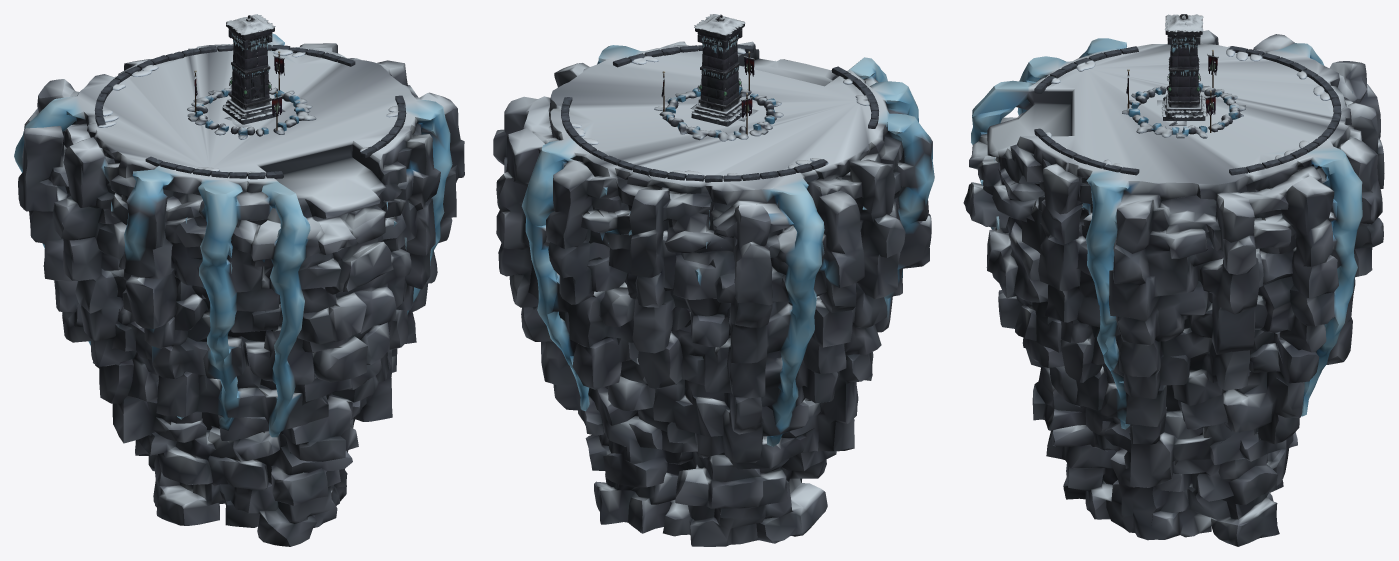
File: gravewyrm_sanctum_interior.glb
The picture shows the model from 3 angles, left to right: view 1: azimuth 30°, elevation 25°; view 2: azimuth 150°, elevation 25°; view 3: azimuth 270°, elevation 25°; orthographic projection. The views are drawn at different scales.
Parts seen in each view (by area): view 1: Kit_LockSpur, Kit_LockCurb, Kit_ThawPyreV2, Kit_SealPillarV2_Bellows, Kit_SealPillarV2_Hammer, Kit_SealPillarCrackedV2_Bellows, Kit_SealPillarCrackedV2_Hammer, Kit_SealPillarCrackedV2_Tongs, Kit_SealPillarV2_Anvil, Kit_SealPillarV2_Tongs, Kit_SealPillarCrackedV2_Anvil; view 2: Kit_LockSpur, Kit_LockCurb, Kit_ThawPyreV2, Kit_SealPillarV2_Hammer, Kit_SealPillarV2_Bellows, Kit_SealPillarCrackedV2_Bellows, Kit_SealPillarCrackedV2_Hammer, Kit_SealPillarV2_Anvil, Kit_SealPillarCrackedV2_Anvil, Kit_SealPillarV2_Tongs, Kit_SealPillarCrackedV2_Tongs; view 3: Kit_LockSpur, Kit_LockCurb, Kit_ThawPyreV2, Kit_SealPillarV2_Hammer, Kit_SealPillarV2_Bellows, Kit_SealPillarV2_Anvil, Kit_SealPillarV2_Tongs, Kit_SealPillarCrackedV2_Bellows, Kit_SealPillarCrackedV2_Tongs, Kit_SealPillarCrackedV2_Hammer, Kit_SealPillarCrackedV2_Anvil.
Part boxes in pixels (<box>): Kit_LockSpur: <box>14,33,464,546</box>; Kit_LockCurb: <box>94,44,406,179</box>; Kit_ThawPyreV2: <box>187,51,316,139</box>; Kit_SealPillarV2_Bellows: <box>222,15,274,124</box>; Kit_SealPillarV2_Hammer: <box>223,15,278,123</box>; Kit_SealPillarCrackedV2_Bellows: <box>223,16,274,124</box>; Kit_SealPillarCrackedV2_Hammer: <box>226,15,275,122</box>; Kit_SealPillarCrackedV2_Tongs: <box>222,15,275,123</box>; Kit_SealPillarV2_Anvil: <box>225,15,274,121</box>; Kit_SealPillarV2_Tongs: <box>223,14,276,122</box>; Kit_SealPillarCrackedV2_Anvil: <box>224,15,272,122</box>; Kit_LockSpur: <box>493,41,934,546</box>; Kit_LockCurb: <box>561,44,878,182</box>; Kit_ThawPyreV2: <box>654,51,783,141</box>; Kit_SealPillarV2_Hammer: <box>692,14,742,124</box>; Kit_SealPillarV2_Bellows: <box>696,15,744,125</box>; Kit_SealPillarCrackedV2_Bellows: <box>691,17,745,124</box>; Kit_SealPillarCrackedV2_Hammer: <box>692,16,744,123</box>; Kit_SealPillarV2_Anvil: <box>692,14,743,126</box>; Kit_SealPillarCrackedV2_Anvil: <box>693,14,745,126</box>; Kit_SealPillarV2_Tongs: <box>691,14,745,123</box>; Kit_SealPillarCrackedV2_Tongs: <box>692,14,744,124</box>; Kit_LockSpur: <box>963,30,1384,546</box>; Kit_LockCurb: <box>1034,46,1341,175</box>; Kit_ThawPyreV2: <box>1122,49,1246,138</box>; Kit_SealPillarV2_Hammer: <box>1163,14,1205,120</box>; Kit_SealPillarV2_Bellows: <box>1161,14,1205,120</box>; Kit_SealPillarV2_Anvil: <box>1162,14,1205,120</box>; Kit_SealPillarV2_Tongs: <box>1162,15,1205,120</box>; Kit_SealPillarCrackedV2_Bellows: <box>1164,14,1206,120</box>; Kit_SealPillarCrackedV2_Tongs: <box>1164,14,1205,120</box>; Kit_SealPillarCrackedV2_Hammer: <box>1161,14,1205,120</box>; Kit_SealPillarCrackedV2_Anvil: <box>1162,14,1205,120</box>.
Size of the model in its own units: 60.56 by 74.85 by 58.32.
